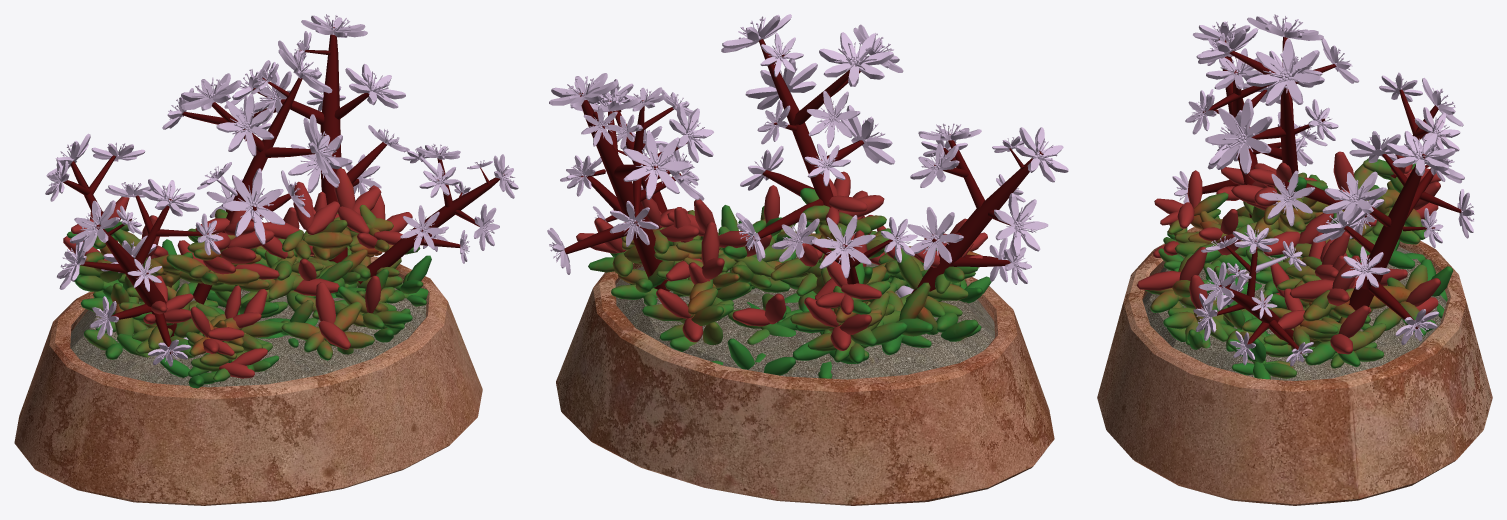
File: large-azure-stonecrop-succulent-in-pot.glb
The picture shows the model from 3 angles, left to right: view 1: azimuth 30°, elevation 25°; view 2: azimuth 150°, elevation 25°; view 3: azimuth 270°, elevation 25°; orthographic projection. The views are drawn at different scales.
Parts seen in each view (by area): view 1: polySurface828_aiStandardSurface5_0, polySurface828_aiStandardSurface1_0, polySurface828_aiStandardSurface3_0, polySurface828_aiStandardSurface2_0, polySurface828_standardSurface4_0, polySurface828_aiStandardSurface4_0; view 2: polySurface828_aiStandardSurface5_0, polySurface828_aiStandardSurface1_0, polySurface828_aiStandardSurface3_0, polySurface828_standardSurface4_0, polySurface828_aiStandardSurface2_0, polySurface828_aiStandardSurface4_0; view 3: polySurface828_aiStandardSurface5_0, polySurface828_aiStandardSurface1_0, polySurface828_aiStandardSurface3_0, polySurface828_aiStandardSurface2_0, polySurface828_standardSurface4_0, polySurface828_aiStandardSurface4_0.
Boxes of the visible parts, x1,y1,x2,y2 form: polySurface828_aiStandardSurface5_0: (14,255,482,505); polySurface828_aiStandardSurface1_0: (45,14,518,366); polySurface828_aiStandardSurface3_0: (67,204,431,388); polySurface828_aiStandardSurface2_0: (63,168,412,378); polySurface828_standardSurface4_0: (63,27,504,354); polySurface828_aiStandardSurface4_0: (70,278,426,387); polySurface828_aiStandardSurface5_0: (556,232,1054,505); polySurface828_aiStandardSurface1_0: (547,14,1068,284); polySurface828_aiStandardSurface3_0: (588,188,991,378); polySurface828_standardSurface4_0: (564,39,1043,295); polySurface828_aiStandardSurface2_0: (576,171,987,350); polySurface828_aiStandardSurface4_0: (615,256,994,379); polySurface828_aiStandardSurface5_0: (1097,218,1492,505); polySurface828_aiStandardSurface1_0: (1172,14,1474,366); polySurface828_aiStandardSurface3_0: (1145,158,1453,379); polySurface828_aiStandardSurface2_0: (1136,151,1440,354); polySurface828_standardSurface4_0: (1187,37,1461,353); polySurface828_aiStandardSurface4_0: (1142,246,1446,380).
Size of the model in its own units: 0.0377 by 0.0296 by 0.0279.
Materials: 7 (6 with a texture image).
